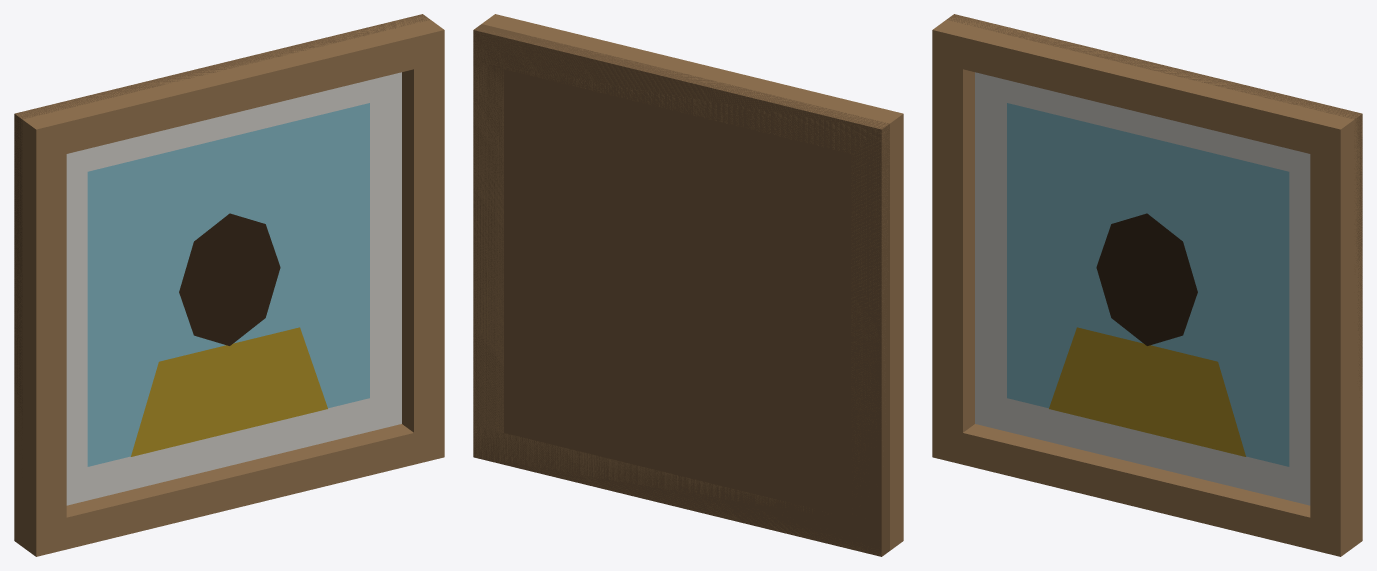
Rendered from picture-frame-08.glb.
The picture shows the model from 3 angles, left to right: view 1: azimuth 30°, elevation 25°; view 2: azimuth 150°, elevation 25°; view 3: azimuth 330°, elevation 25°; orthographic projection.
Visible parts, largest first — view 1: picture_frame_08; view 2: picture_frame_08; view 3: picture_frame_08.
Boxes of the visible parts, x1=… form: picture_frame_08: x1=14, y1=14, x2=444, y2=556; picture_frame_08: x1=473, y1=14, x2=903, y2=556; picture_frame_08: x1=932, y1=14, x2=1362, y2=556.
Size of the model in its own units: 0.347 by 0.347 by 0.0321.
